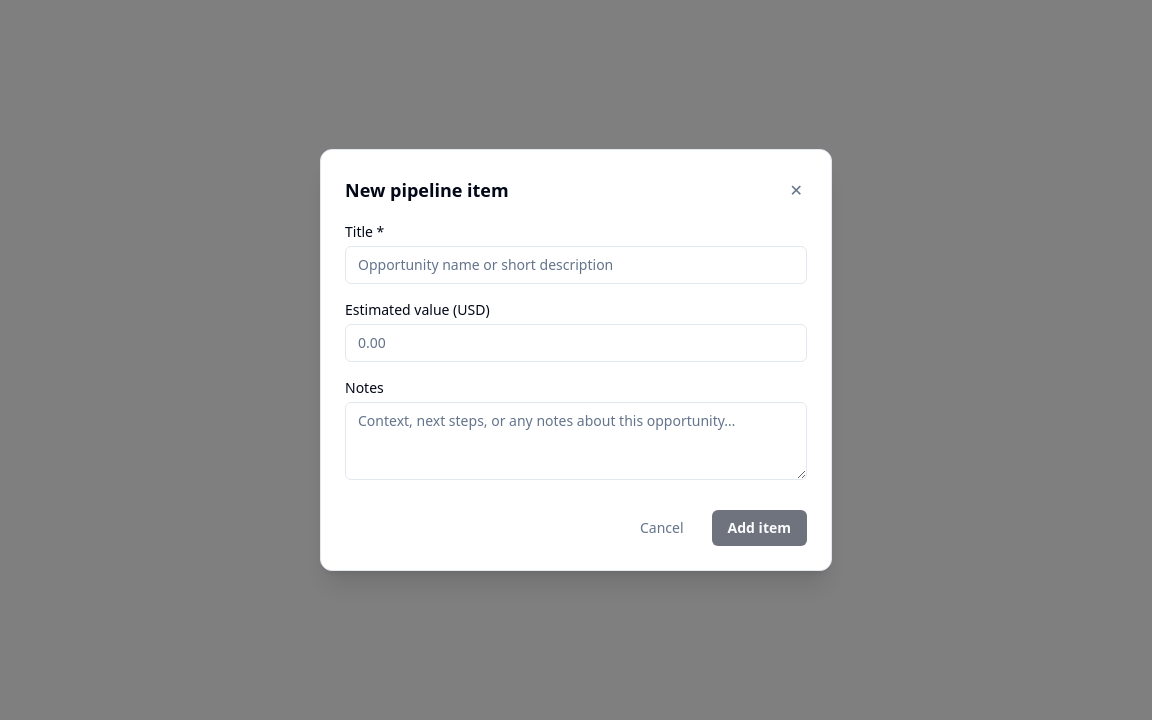
NewItemModal — mutation › shows an error alert when the API returns a problem
Step 1. Type "Bad stage deal" into the field labelled "Title *" → x=576, y=265, box [345,246,807,284]
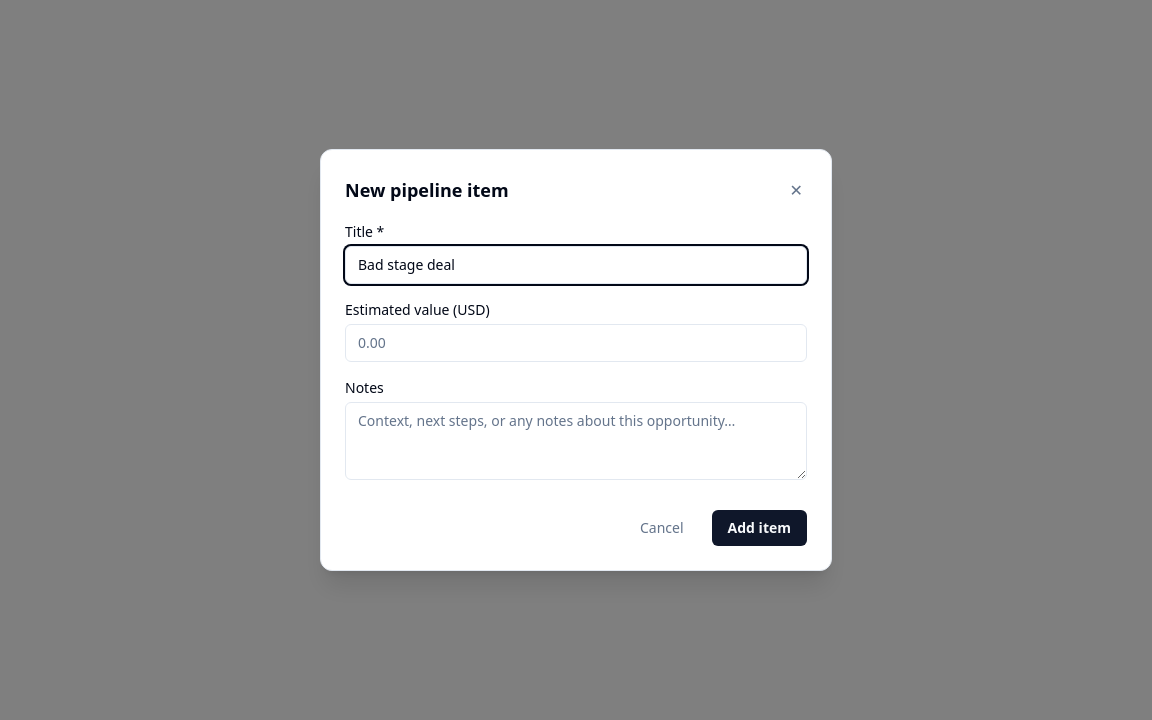
Step 2. Click the button "Add item" → x=759, y=528, box [712,510,807,546]
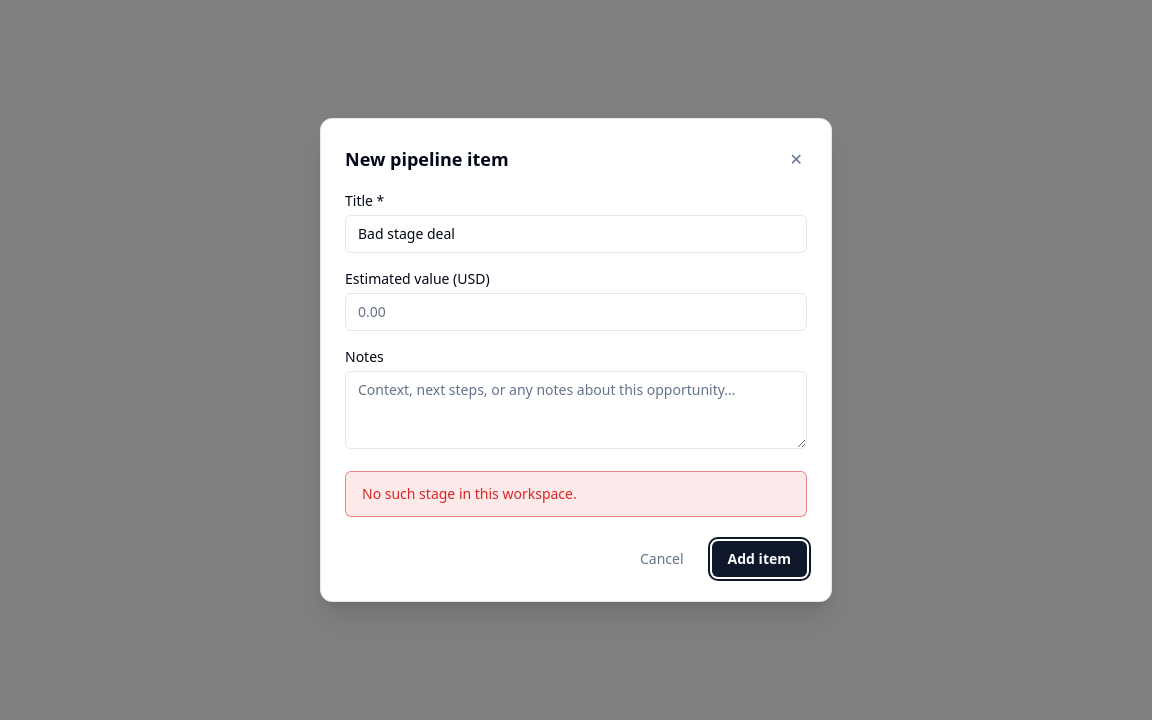
expect the text "No such stage in this workspace." is shown: met, box [345,471,807,517]
